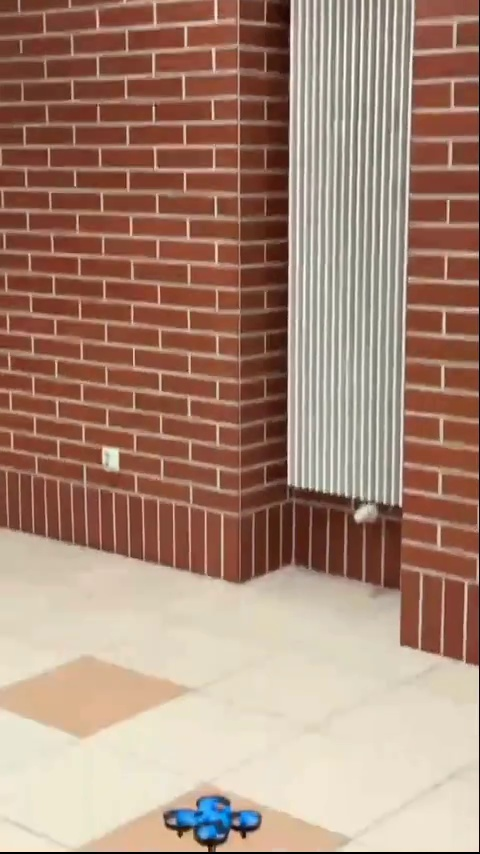drone: (163, 785, 261, 846)
